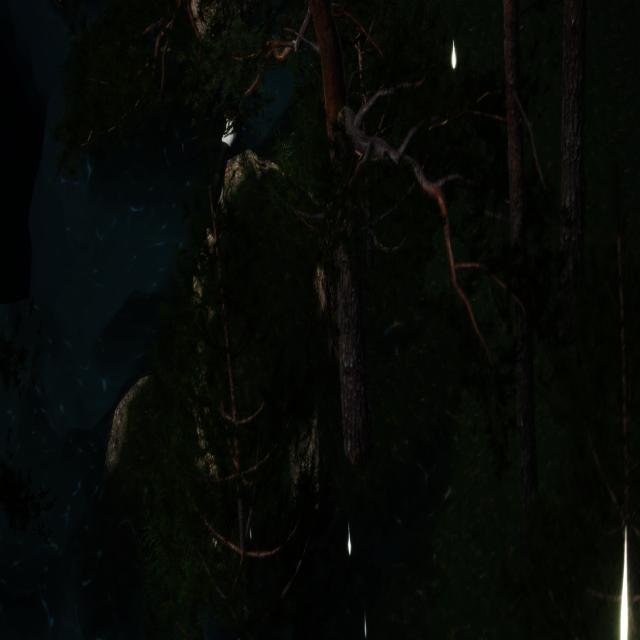Human: (177, 95, 244, 186)
